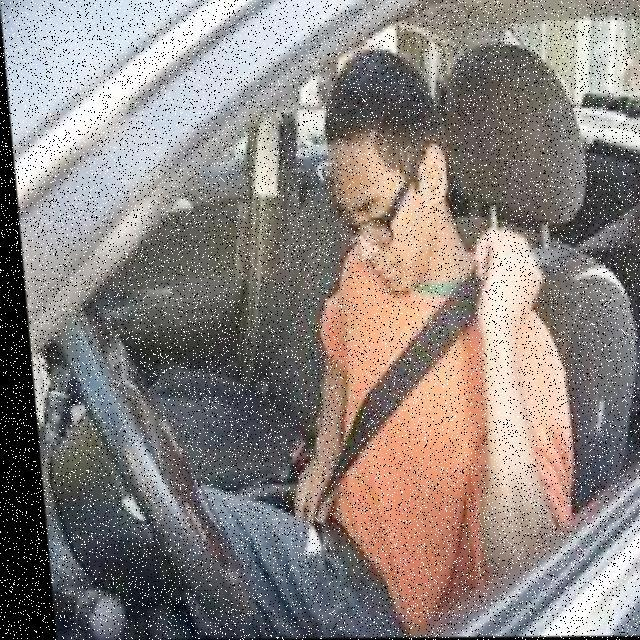seatbelt: (295, 257, 569, 544)
